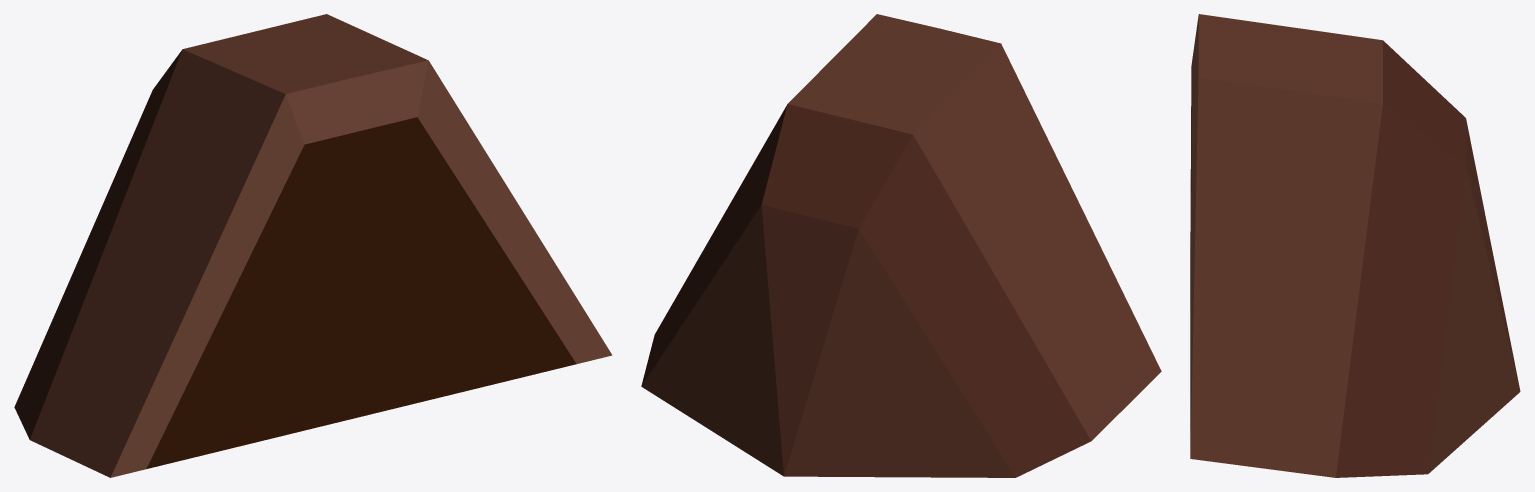
The model's file is Wreckage_5.fbx.
3 renders of one model, left to right at view 1: azimuth 30°, elevation 25°; view 2: azimuth 150°, elevation 25°; view 3: azimuth 270°, elevation 25°, orthographic. The views are drawn at different scales.
Parts seen in each view (by area): view 1: Wreckage_5; view 2: Wreckage_5; view 3: Wreckage_5.
Boxes of the visible parts, x1,y1,x2,y2 form: Wreckage_5: (14,14,612,477); Wreckage_5: (641,14,1161,477); Wreckage_5: (1190,14,1520,477).
Size of the model in its own units: 13.9 by 10.17 by 8.78.
